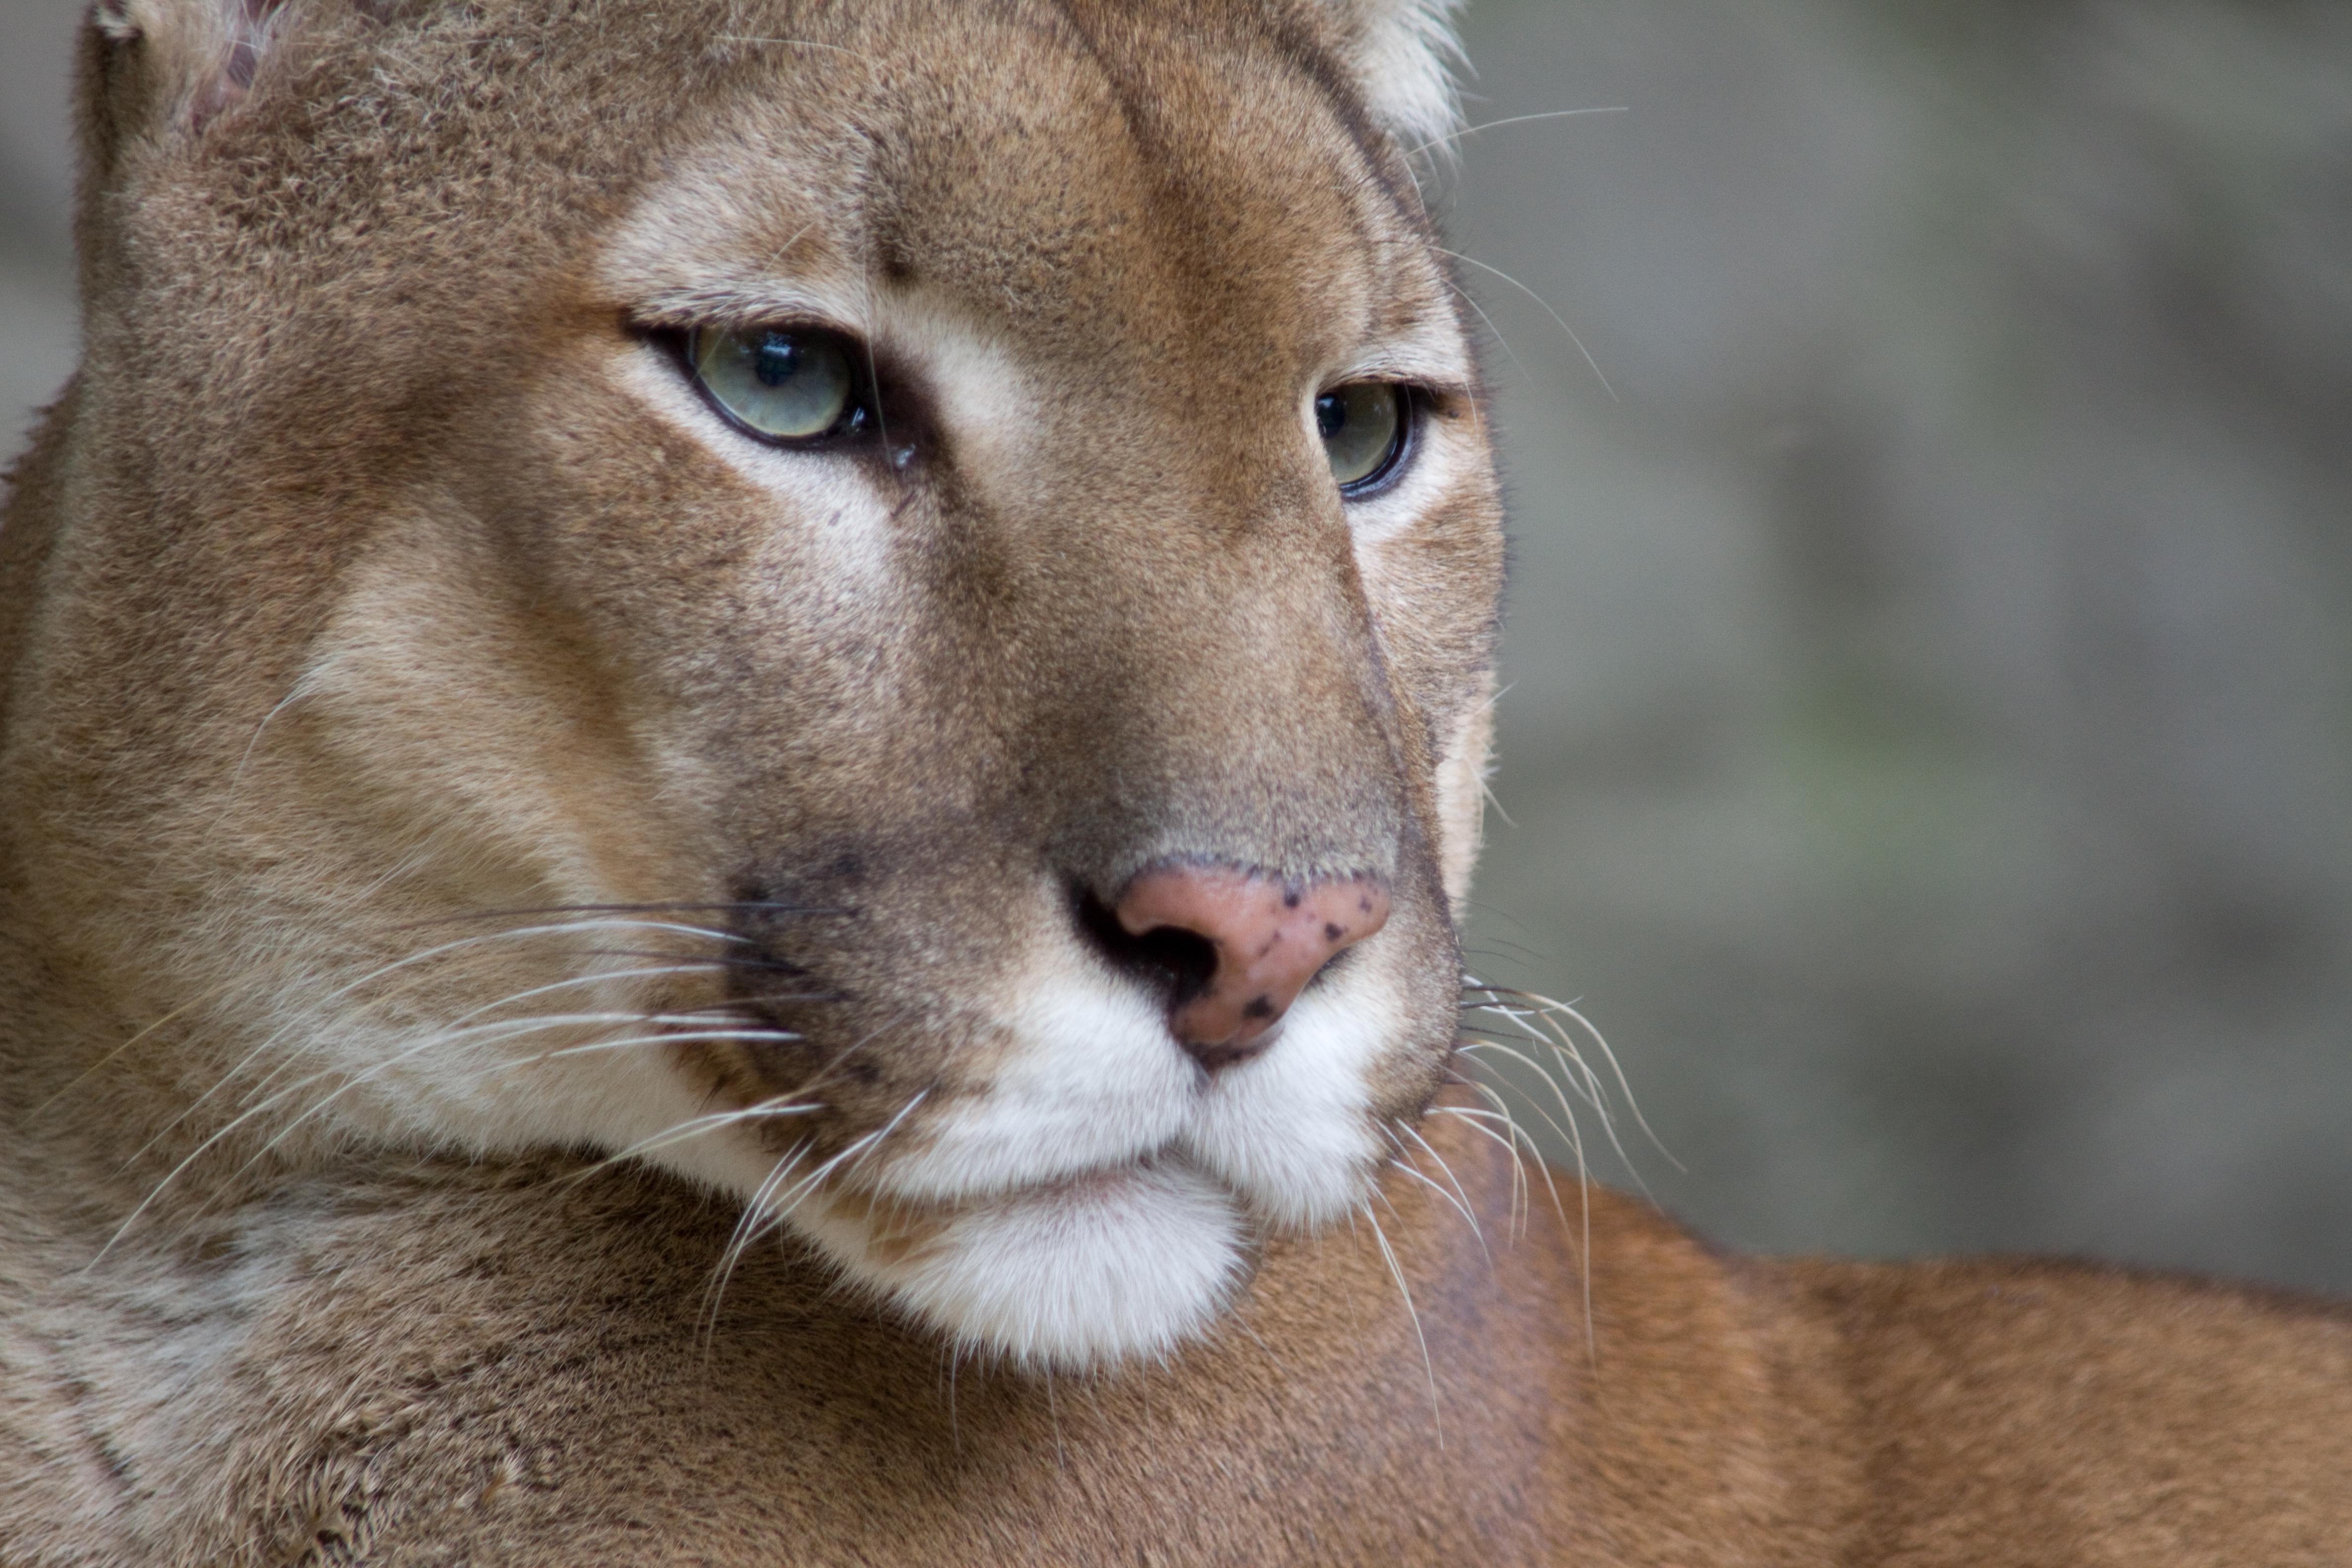OncaParda: (16, 9, 2321, 1552)
